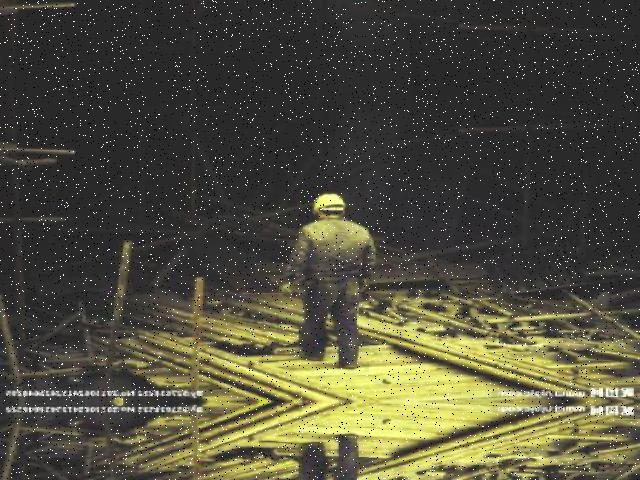Helmet: (310, 187, 353, 217)
